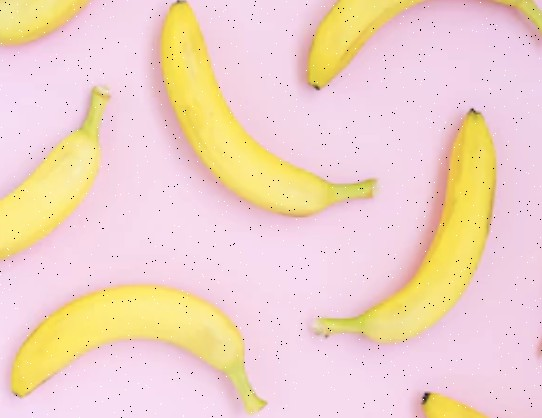fresh_banana: (162, 1, 378, 219), (312, 109, 496, 343), (13, 284, 269, 412), (306, 1, 542, 92), (2, 86, 113, 265)
